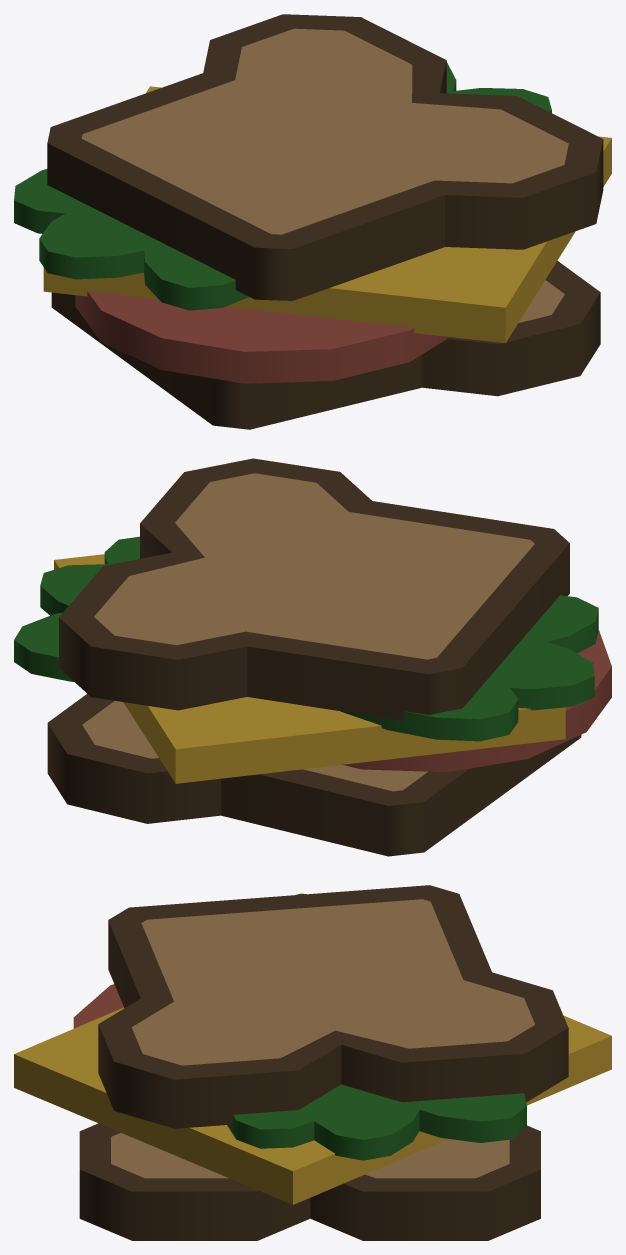
File: Item_Sandwhich_Mesh.fbx
3 renders of one model, top to bottom at view 1: azimuth 30°, elevation 25°; view 2: azimuth 150°, elevation 25°; view 3: azimuth 270°, elevation 25°, orthographic. The views are drawn at different scales.
Parts seen in each view (by area): view 1: Item_Sandwhich_Mesh; view 2: Item_Sandwhich_Mesh; view 3: Item_Sandwhich_Mesh.
Part boxes in pixels (x1,y1,x2,y2): Item_Sandwhich_Mesh: [14, 14, 611, 429]; Item_Sandwhich_Mesh: [14, 458, 611, 856]; Item_Sandwhich_Mesh: [14, 885, 611, 1240].
Size of the model in its own units: 37.7 by 11.74 by 36.82.
